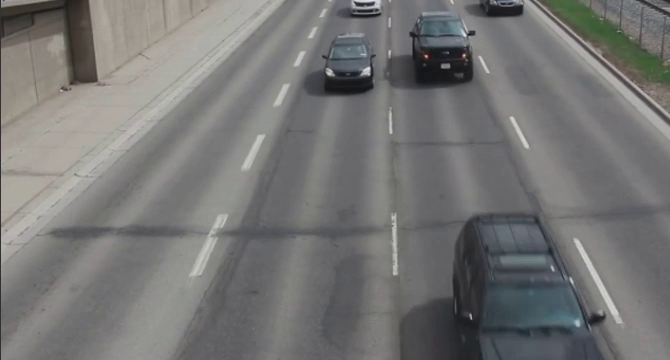car: (449, 212, 609, 360), (408, 12, 478, 84), (325, 28, 376, 91), (484, 1, 527, 18), (350, 1, 381, 17)
